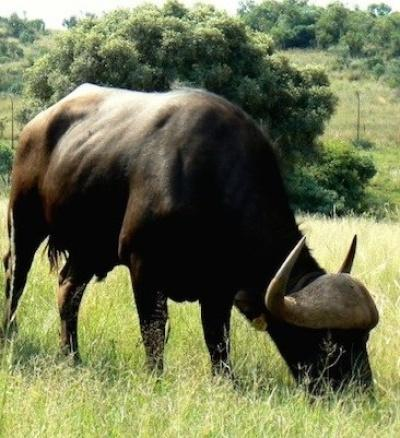buffalo: (3, 84, 377, 394)
